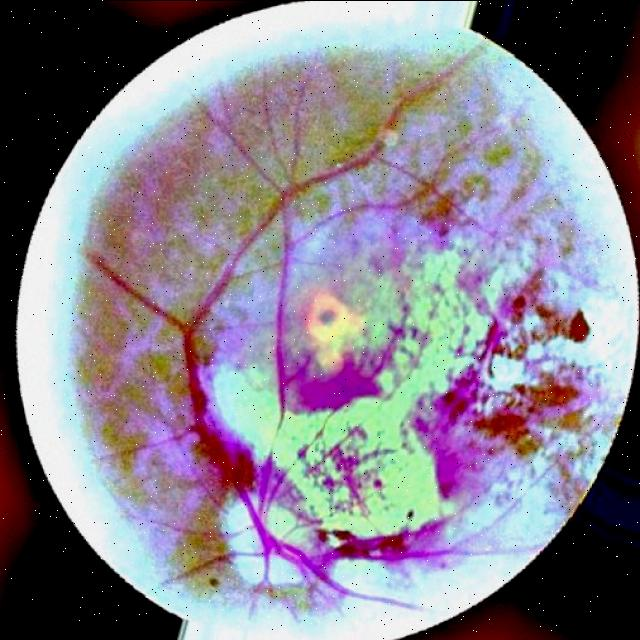Macula: (284, 292, 375, 408)
Nerves: (77, 185, 294, 537), (268, 495, 518, 610), (166, 549, 278, 614)
Optic Disk: (222, 469, 351, 592)
